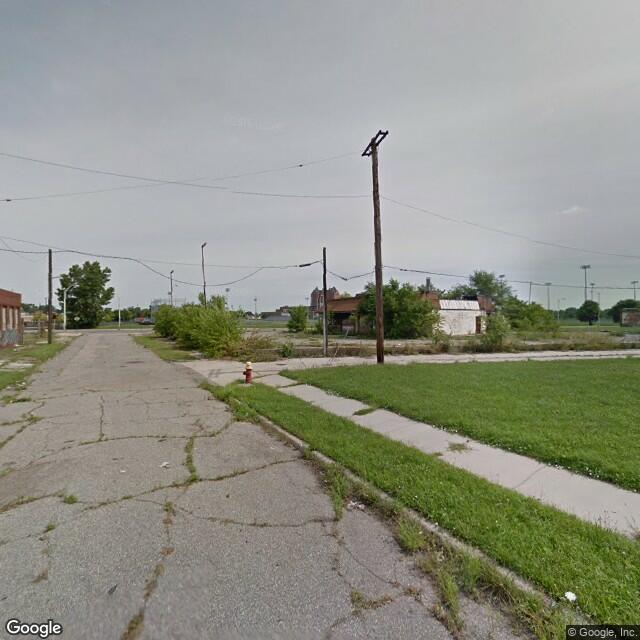litter: (346, 500, 363, 511), (15, 378, 28, 387), (565, 588, 573, 600)
